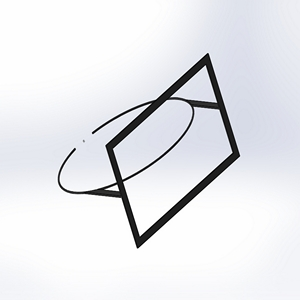circle: (55, 50, 243, 250)
